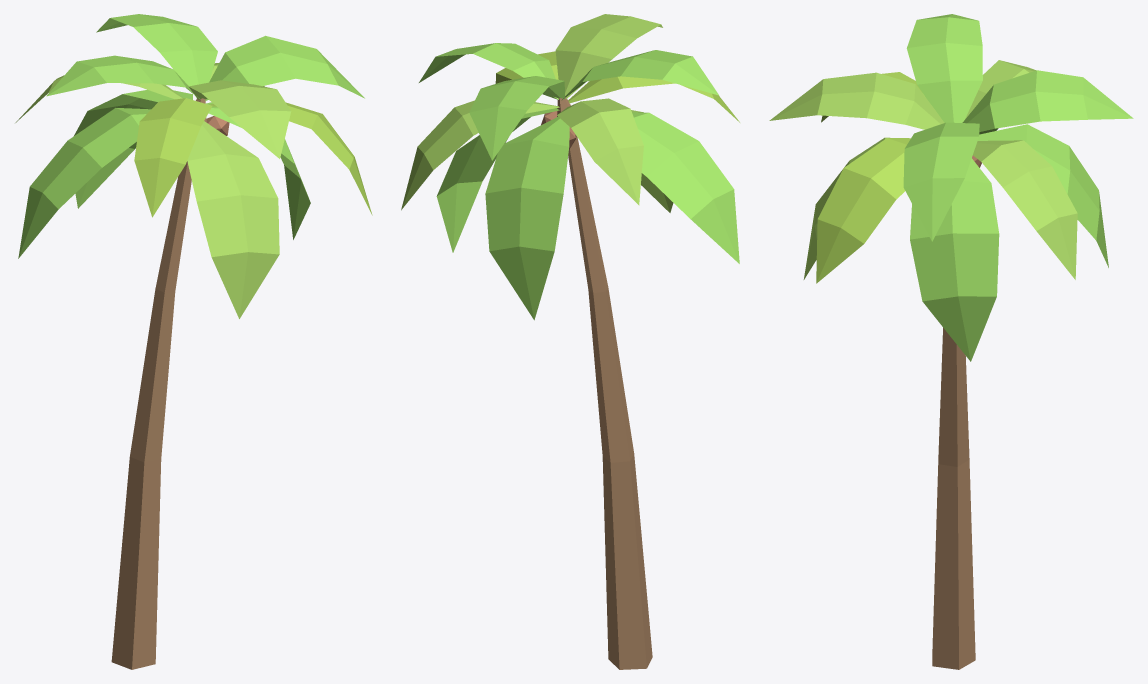
File: Palm_Tree_Coconut_l_02_LOD.fbx
3 views of the same model, side by side, from view 1: azimuth 30°, elevation 25°; view 2: azimuth 150°, elevation 25°; view 3: azimuth 270°, elevation 25° (orthographic). The views are drawn at different scales.
Visible parts, largest first — view 1: Palm_Tree_Coconut_l_02_LOD0; view 2: Palm_Tree_Coconut_l_02_LOD0; view 3: Palm_Tree_Coconut_l_02_LOD0.
Boxes of the visible parts, x1,y1,x2,y2 form: Palm_Tree_Coconut_l_02_LOD0: (15,14,372,669); Palm_Tree_Coconut_l_02_LOD0: (401,14,739,669); Palm_Tree_Coconut_l_02_LOD0: (769,14,1133,669).
Size of what is drawn, in the model's own units: 499 by 864 by 459.
